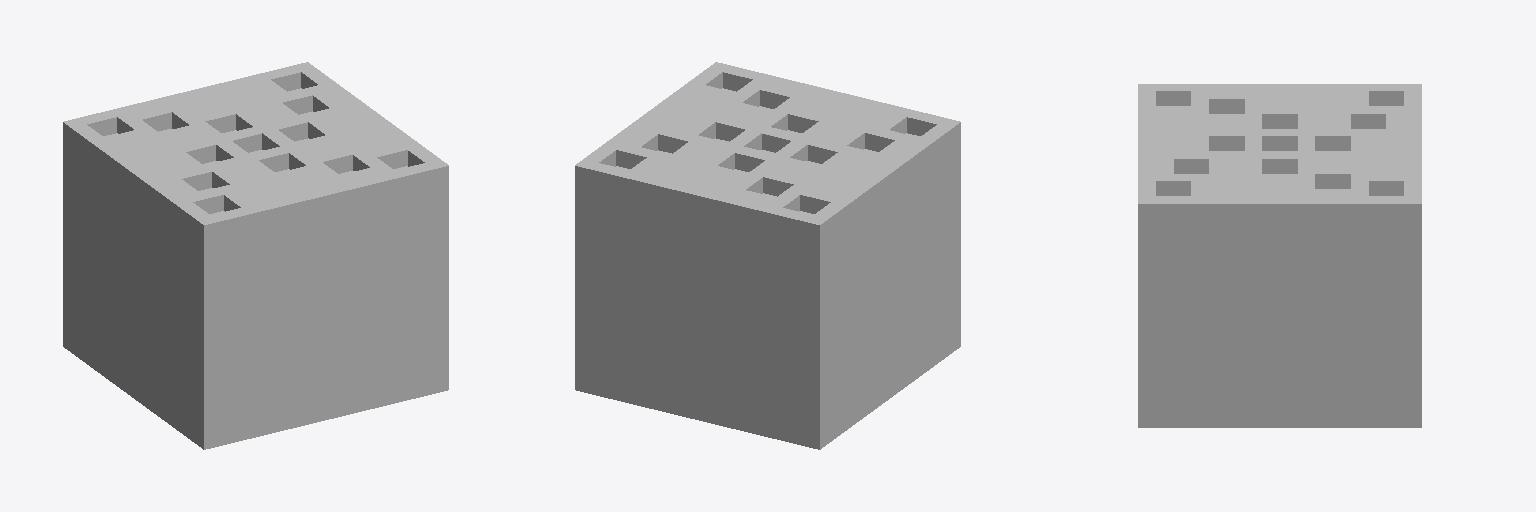
The model's file is matrix.obj.
The picture shows the model from 3 angles: view 1: azimuth 30°, elevation 25°; view 2: azimuth 150°, elevation 25°; view 3: azimuth 270°, elevation 25°; orthographic projection.
Parts seen in each view (by area): view 1: Cube_Cube.001; view 2: Cube_Cube.001; view 3: Cube_Cube.001.
Part boxes in pixels (x1,y1,x2,y2): Cube_Cube.001: (63,62,448,449); Cube_Cube.001: (575,62,960,449); Cube_Cube.001: (1138,84,1421,427).
Size of the model in its own units: 1 by 0.875 by 1.